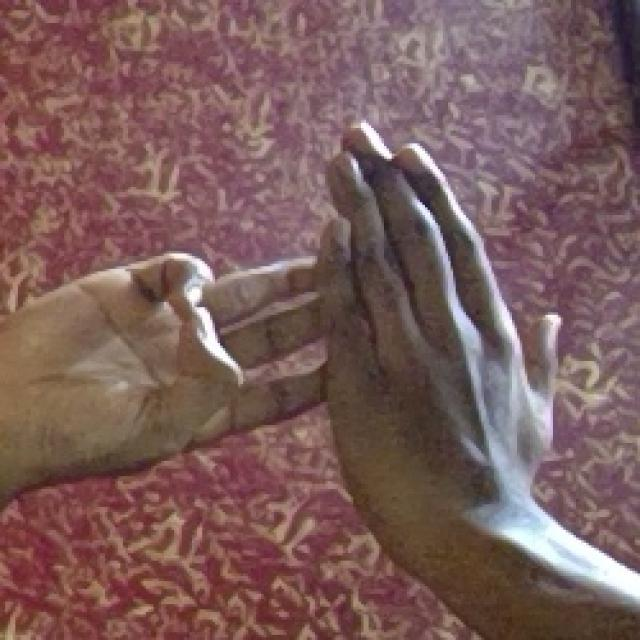Alphabet-M: (21, 66, 575, 491)
